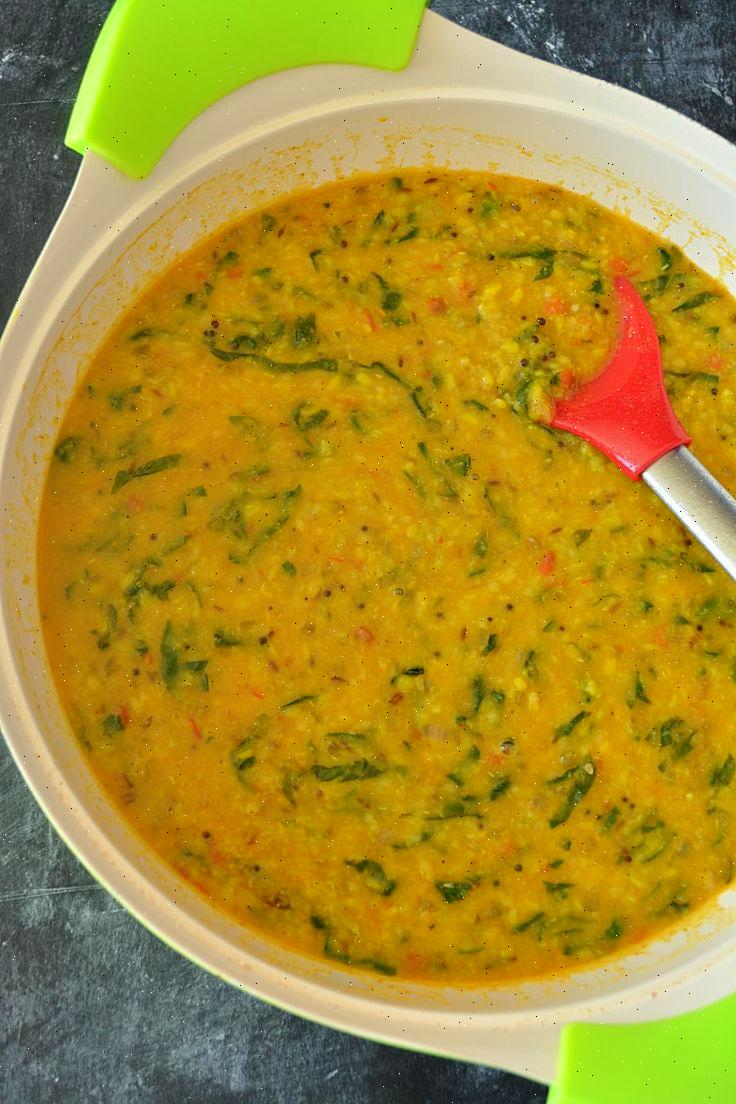daal: (63, 177, 736, 989)
